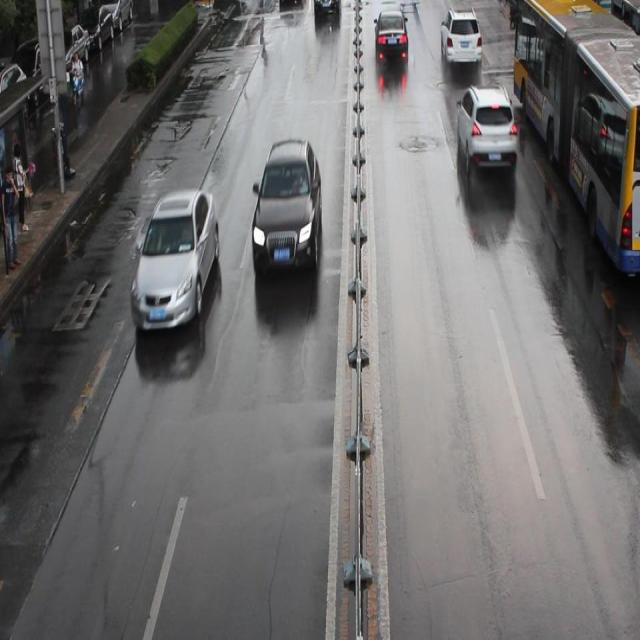car: (133, 190, 219, 330), (251, 142, 322, 276), (456, 83, 516, 175), (440, 10, 481, 71), (373, 8, 408, 69)
van: (514, 1, 640, 283)
